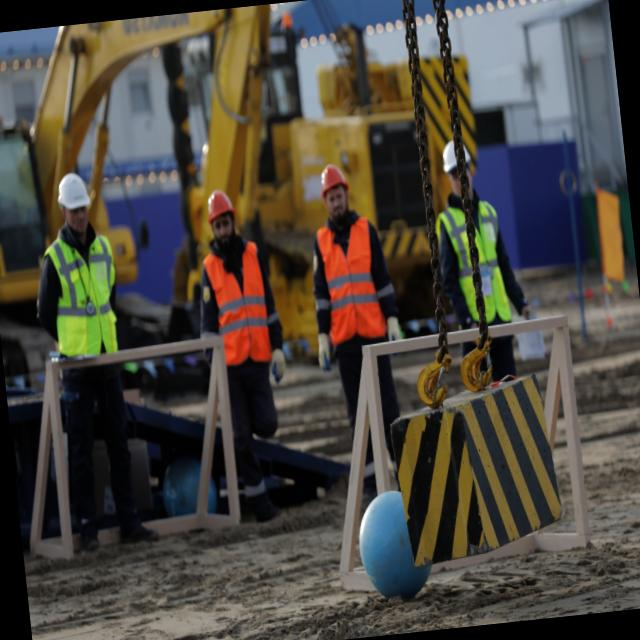Helmet: (54, 170, 94, 213), (438, 138, 473, 178), (204, 188, 239, 227), (317, 163, 351, 199)
Jacket: (314, 213, 386, 346), (204, 241, 275, 366), (51, 229, 119, 357), (441, 204, 507, 323)
